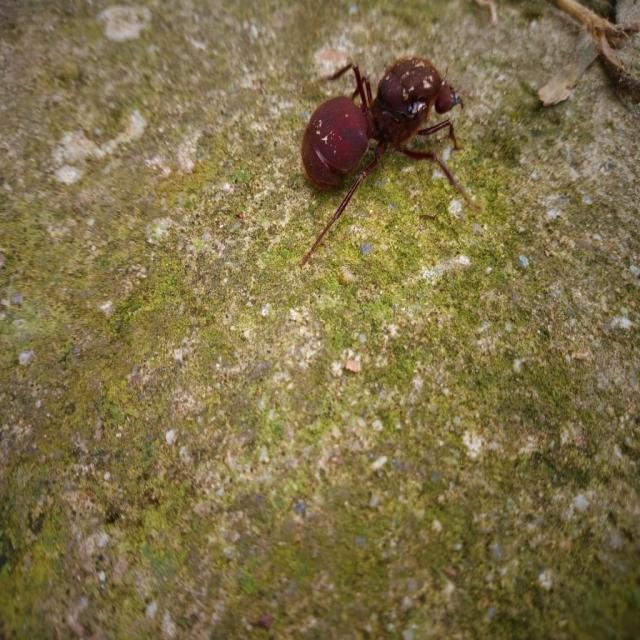Alive-Female-Dealate: (298, 55, 483, 268)
